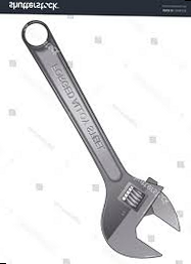Wrench: (15, 16, 182, 264)
